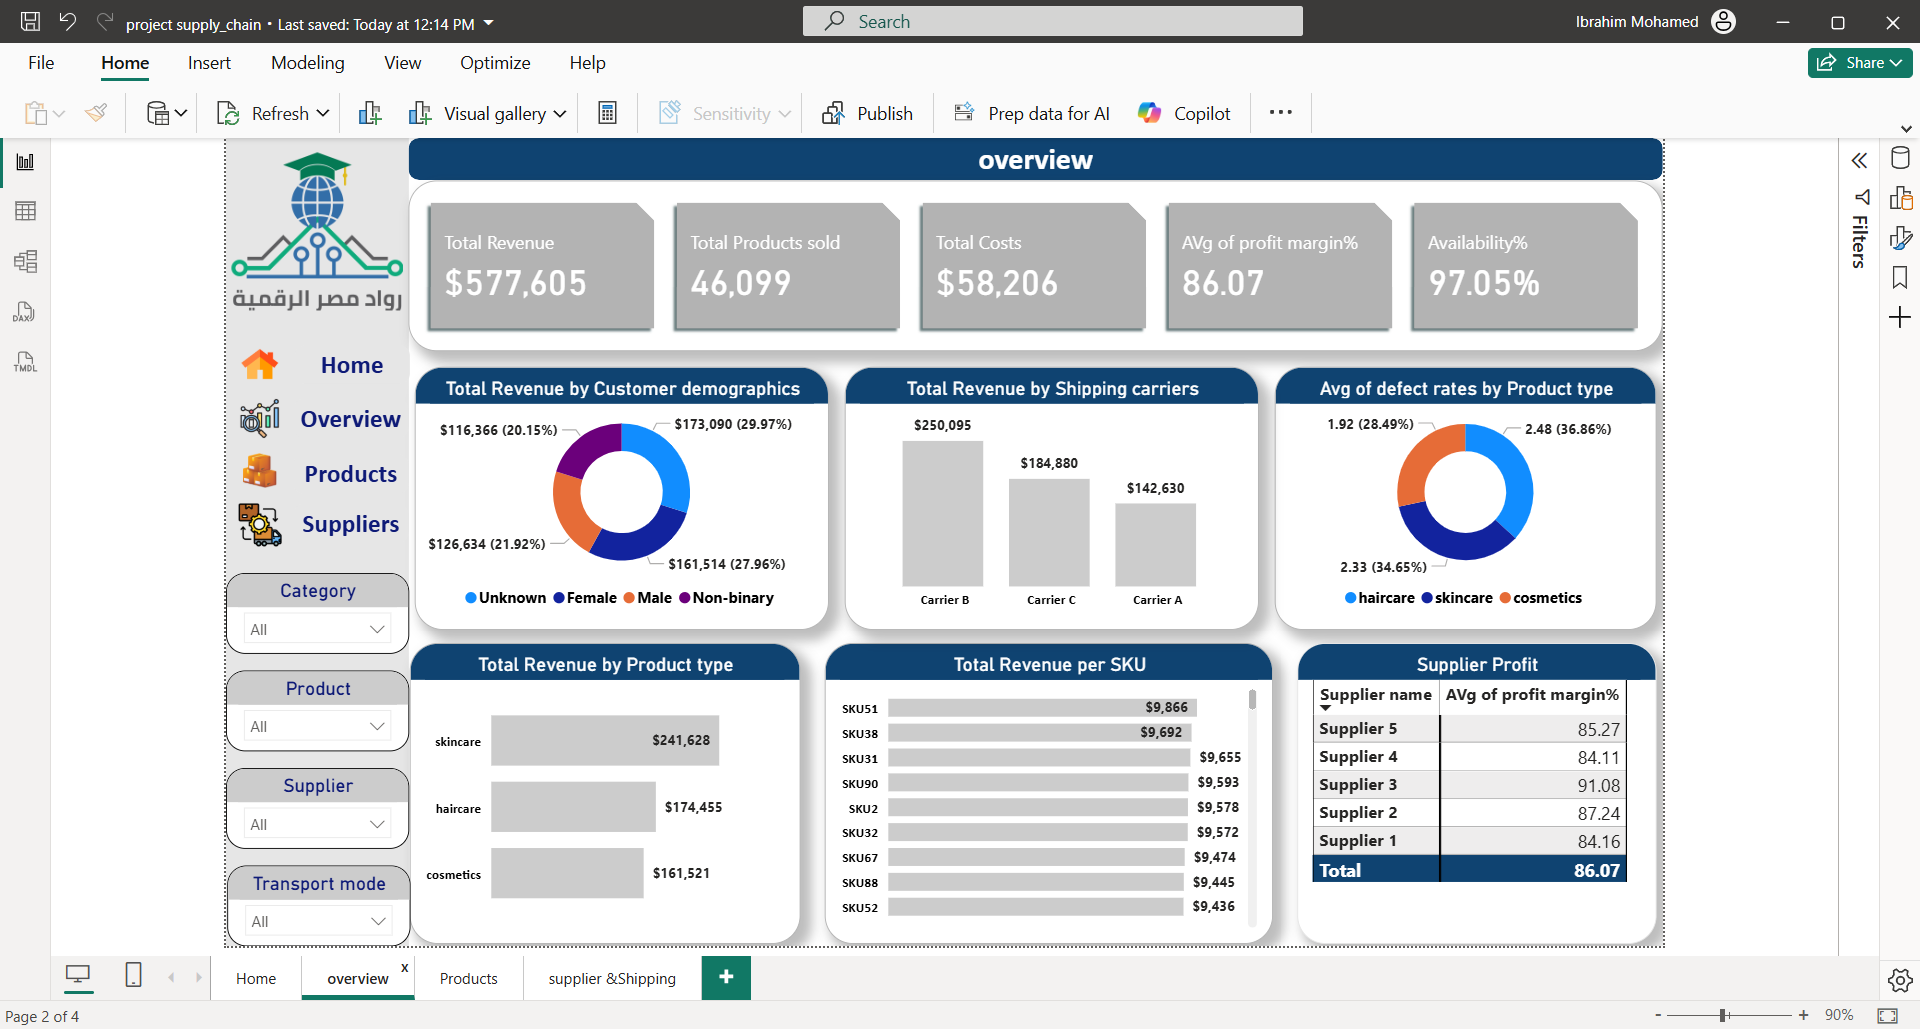

This screenshot's page, from the dashboard's own definition file:
{"tool":"powerbi","page":{"name":"overview","canvas":[1280,720],"ordinal":0},"visuals":[{"type":"shape","box":[0,0,162.9,919.3],"z":0},{"type":"shape","box":[162.8,0,1117.2,37.4],"z":1000},{"type":"cardVisual","fields":{"Data":["calculations.Total Revenue","calculations.Total Products sold","calculations.Total Costs","calculations.AVg of profit margin%","calculations.stock level"]},"box":[162.8,37.4,1117.2,152],"z":2000},{"type":"image","box":[0,0,162.9,166.5],"z":3000},{"type":"donutChart","fields":{"Category":["dim customer.Customer demographics"],"Y":["calculations.Total Revenue"]},"box":[162.9,203.9,369.2,234],"z":5000},{"type":"donutChart","fields":{"Category":["dim category.Product type"],"Y":["calculations.Avg of defect rates%"]},"box":[933.8,203.9,340.2,234],"z":6000},{"type":"clusteredBarChart","fields":{"Y":["calculations.Total Revenue"],"Category":["dim category.Product type"]},"box":[163.3,450.1,347.6,267.9],"z":7000},{"type":"clusteredBarChart","fields":{"Category":["supply_chain.SKU"],"Y":["calculations.Total Revenue"]},"box":[536.9,450,399.3,267.8],"z":8000},{"type":"pivotTable","fields":{"Rows":["dim suppliers.Supplier name"],"Values":["calculations.AVg of profit margin%"]},"box":[966.4,479,307.6,238.9],"z":9000},{"type":"clusteredColumnChart","fields":{"Category":["Dim Shipping.Shipping carriers"],"Y":["calculations.Total Revenue"]},"box":[551.3,203.9,369.2,234],"z":10000}]}

Visuals, with their boxes on the page's 1280x720 design canvas (x1, y1, x2, y2). These are canvas units, not pixel positions in the 1920x1029 screenshot, which may show the page scaled, cropped or inside an application window:
shape: 0,0,163,919
shape: 163,0,1280,37
cardVisual - calculations.Total Revenue x calculations.Total Products sold: 163,37,1280,189
image: 0,0,163,166
donutChart - dim customer.Customer demographics x calculations.Total Revenue: 163,204,532,438
donutChart - dim category.Product type x calculations.Avg of defect rates%: 934,204,1274,438
clusteredBarChart - calculations.Total Revenue x dim category.Product type: 163,450,511,718
clusteredBarChart - supply_chain.SKU x calculations.Total Revenue: 537,450,936,718
pivotTable - dim suppliers.Supplier name x calculations.AVg of profit margin%: 966,479,1274,718
clusteredColumnChart - Dim Shipping.Shipping carriers x calculations.Total Revenue: 551,204,920,438
